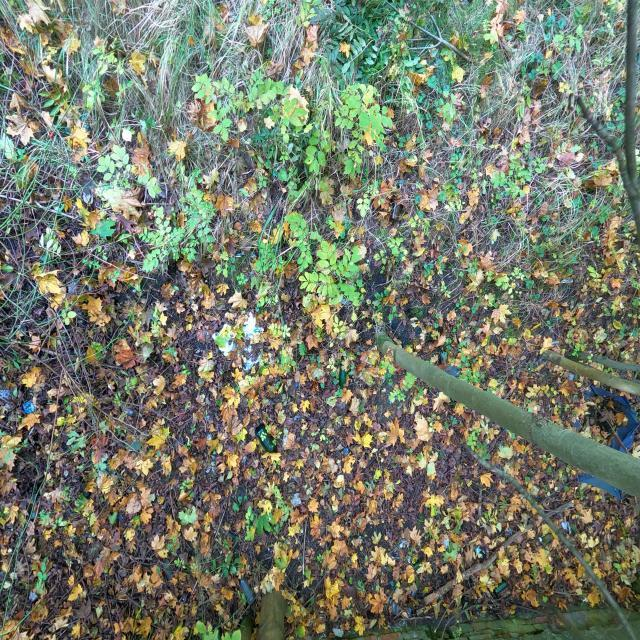rubbish: (0, 187, 69, 254), (375, 268, 431, 329), (17, 140, 65, 167), (362, 188, 386, 216), (236, 419, 252, 461), (228, 76, 253, 100), (228, 20, 251, 43), (385, 37, 400, 64), (130, 44, 148, 61), (293, 249, 301, 284), (605, 225, 619, 241), (68, 105, 79, 118), (505, 222, 516, 232), (290, 182, 298, 195), (125, 103, 136, 112), (157, 84, 165, 94)
